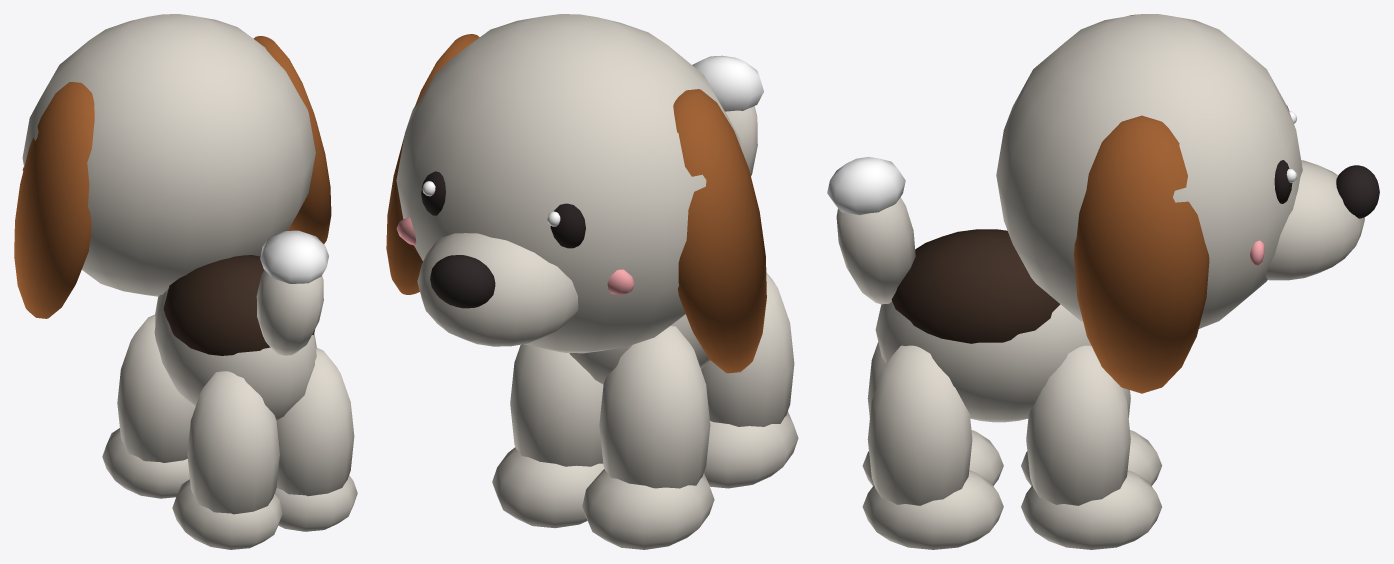
File: dog_beagle.glb
3 views of the same model, side by side, from view 1: azimuth 30°, elevation 25°; view 2: azimuth 150°, elevation 25°; view 3: azimuth 270°, elevation 25° (orthographic). The views are drawn at different scales.
Visible parts, largest first — view 1: Head, EarL, LegBL, LegBR, Saddle, LegFL, Body, Tail, LegBLPaw, EarR, LegFLPaw, TailTip (+1 smaller); view 2: Head, EarL, LegFL, Snout, LegFR, LegFLPaw, LegBL, LegFRPaw, LegBLPaw, EarR, Nose, TailTip (+5 smaller); view 3: Head, EarR, Saddle, LegBR, LegFR, Body, Snout, LegFRPaw, LegBRPaw, Tail, TailTip, Nose (+2 smaller).
Part boxes in pixels (x1,y1,x2,y2): Head: (22, 14, 315, 296); EarL: (14, 82, 94, 318); LegBL: (187, 371, 279, 514); LegBR: (276, 347, 354, 496); Saddle: (163, 255, 314, 355); LegFL: (117, 314, 194, 462); Body: (154, 289, 316, 420); Tail: (256, 270, 323, 355); LegBLPaw: (172, 479, 282, 549); EarR: (253, 36, 331, 243); LegFLPaw: (102, 428, 189, 498); TailTip: (260, 230, 328, 283); Head: (396, 14, 741, 353); EarL: (673, 89, 766, 373); LegFL: (599, 326, 710, 488); Snout: (417, 233, 578, 346); LegFR: (510, 344, 603, 466); LegFLPaw: (582, 469, 714, 549); LegBL: (701, 272, 794, 426); LegFRPaw: (492, 447, 604, 528); LegBLPaw: (704, 411, 798, 488); EarR: (386, 34, 479, 294); Nose: (430, 255, 495, 308); TailTip: (692, 55, 763, 111); Head: (996, 14, 1302, 328); EarR: (1074, 115, 1209, 393); Saddle: (891, 229, 1060, 343); LegBR: (867, 345, 972, 505); LegFR: (1026, 345, 1130, 505); Body: (875, 301, 1091, 422); Snout: (1266, 160, 1364, 280); LegFRPaw: (1021, 470, 1161, 549); LegBRPaw: (862, 470, 1003, 549); Tail: (836, 197, 915, 304); TailTip: (827, 157, 905, 215); Nose: (1336, 165, 1379, 218).
Size of the model in its own units: 0.7969 by 1.13 by 1.15.
